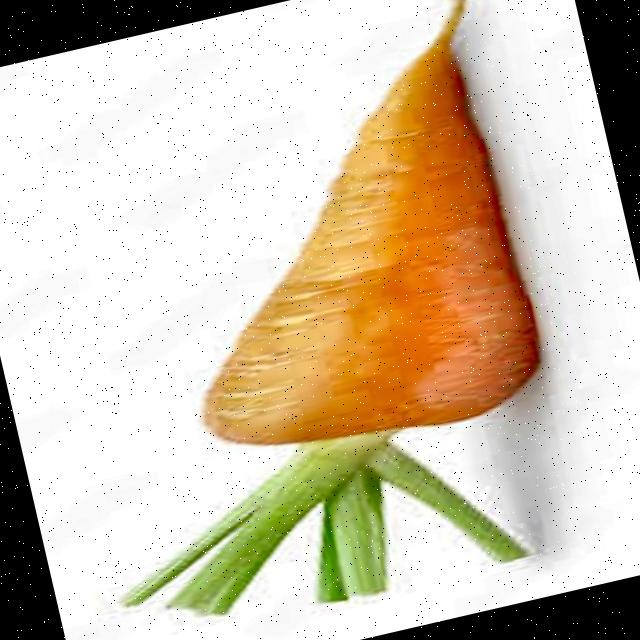carrot: (123, 0, 538, 613)
